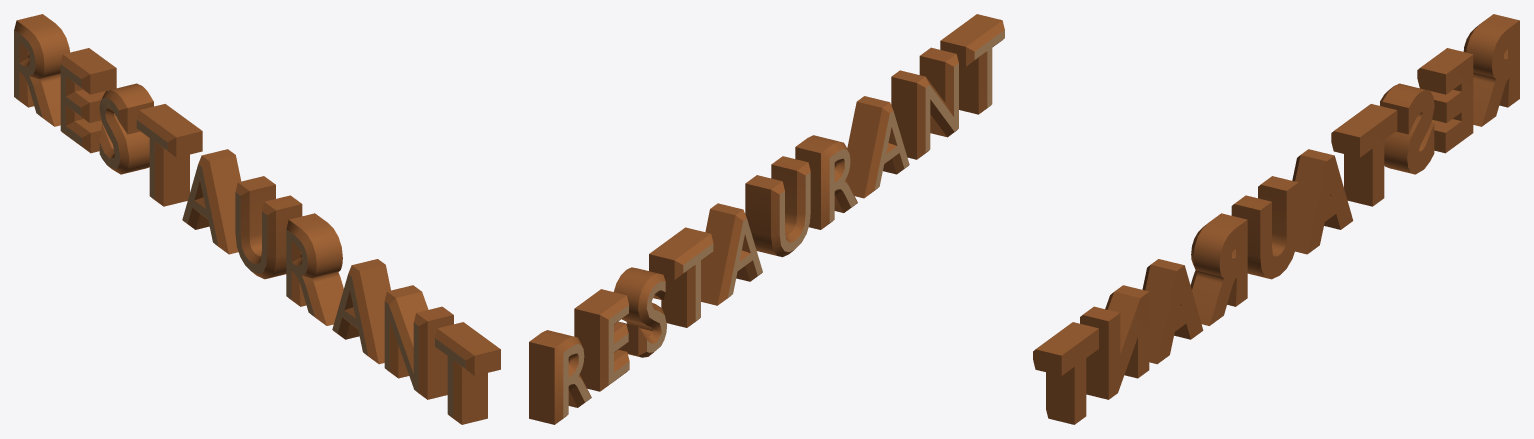
File: RestaurantSign_1_A.fbx
The picture shows the model from 3 angles, left to right: view 1: azimuth 30°, elevation 25°; view 2: azimuth 150°, elevation 25°; view 3: azimuth 330°, elevation 25°; orthographic projection. The views are drawn at different scales.
Visible parts, largest first — view 1: RestaurantSign_1_A; view 2: RestaurantSign_1_A; view 3: RestaurantSign_1_A.
Boxes of the visible parts, x1,y1,x2,y2 form: RestaurantSign_1_A: [14, 14, 500, 424]; RestaurantSign_1_A: [529, 14, 1004, 424]; RestaurantSign_1_A: [1033, 14, 1519, 424].
Size of the model in its own units: 37.37 by 90.23 by 931.
